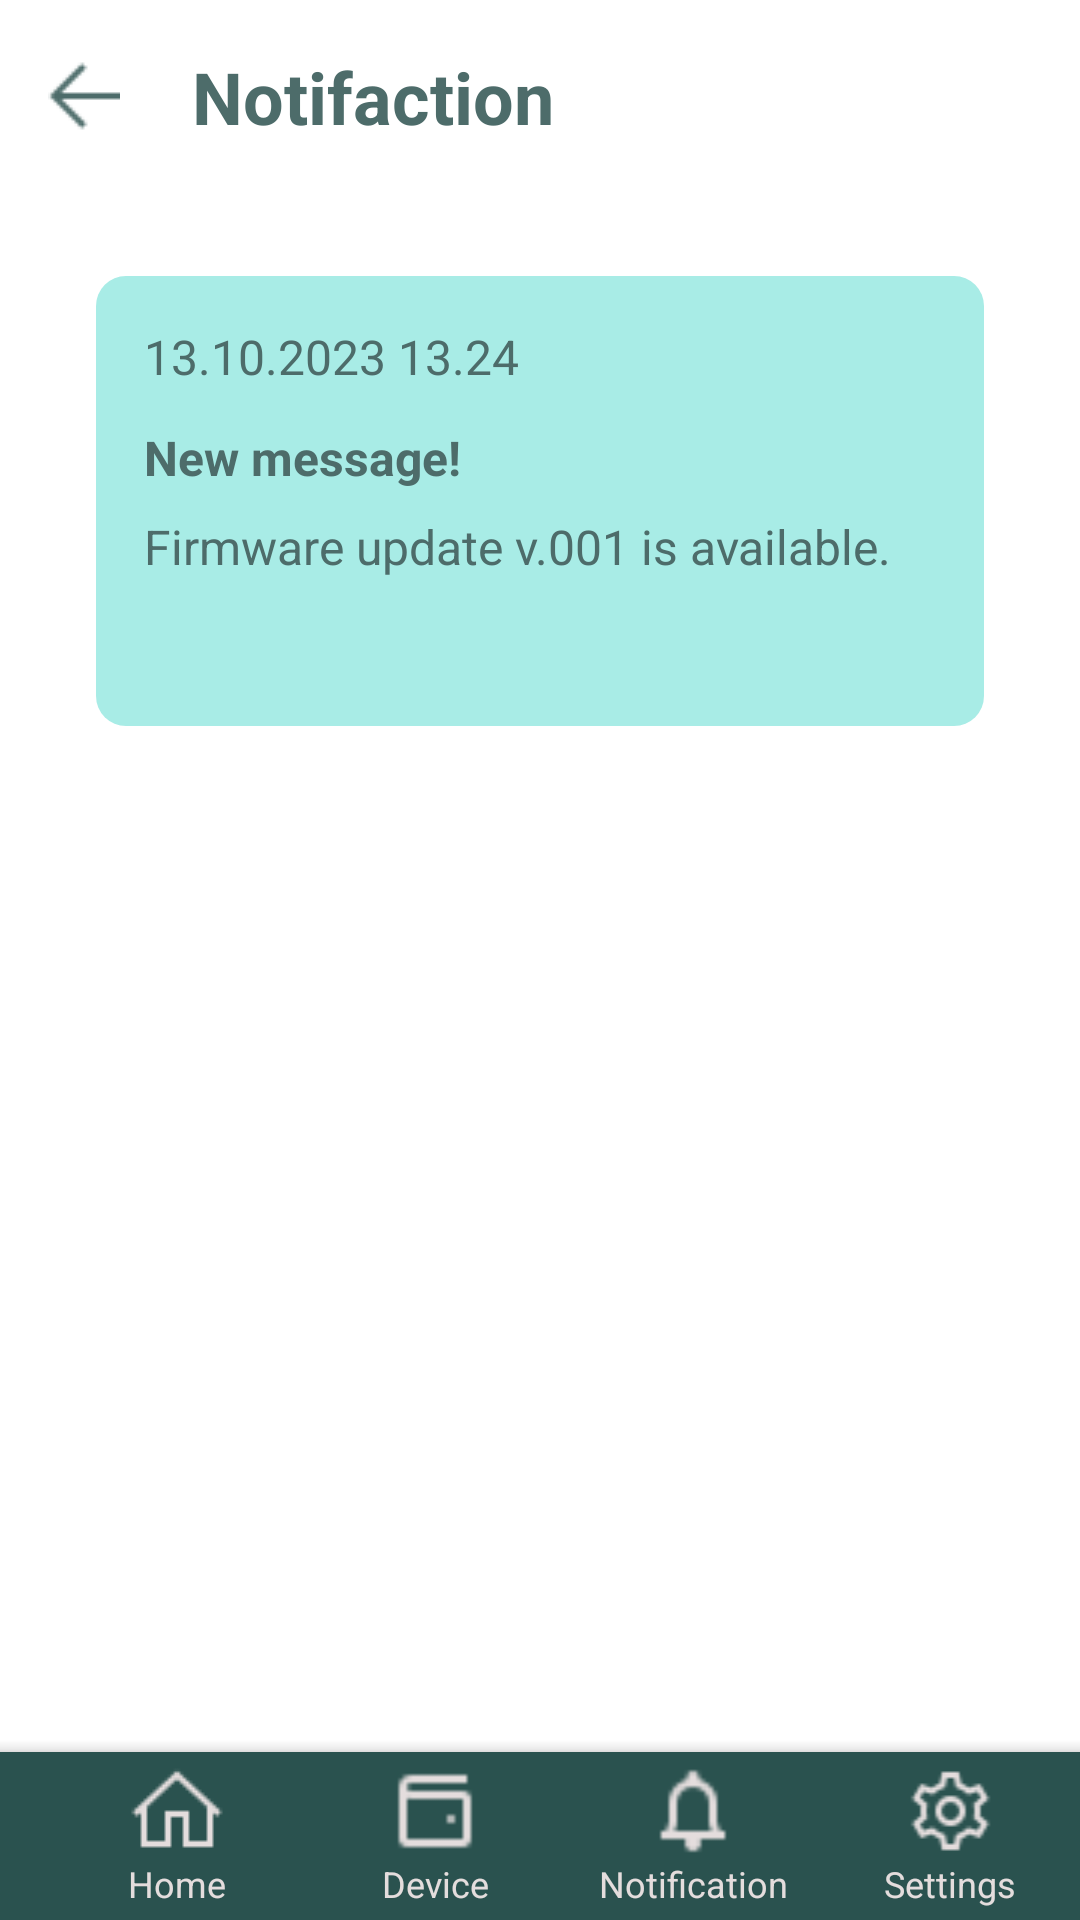

Named icons in this screenshot (1080x1920) and their bounding boxes, (x1, y1, x2, y2):
left: (50, 62, 120, 129)
wallet: (398, 1774, 472, 1848)
